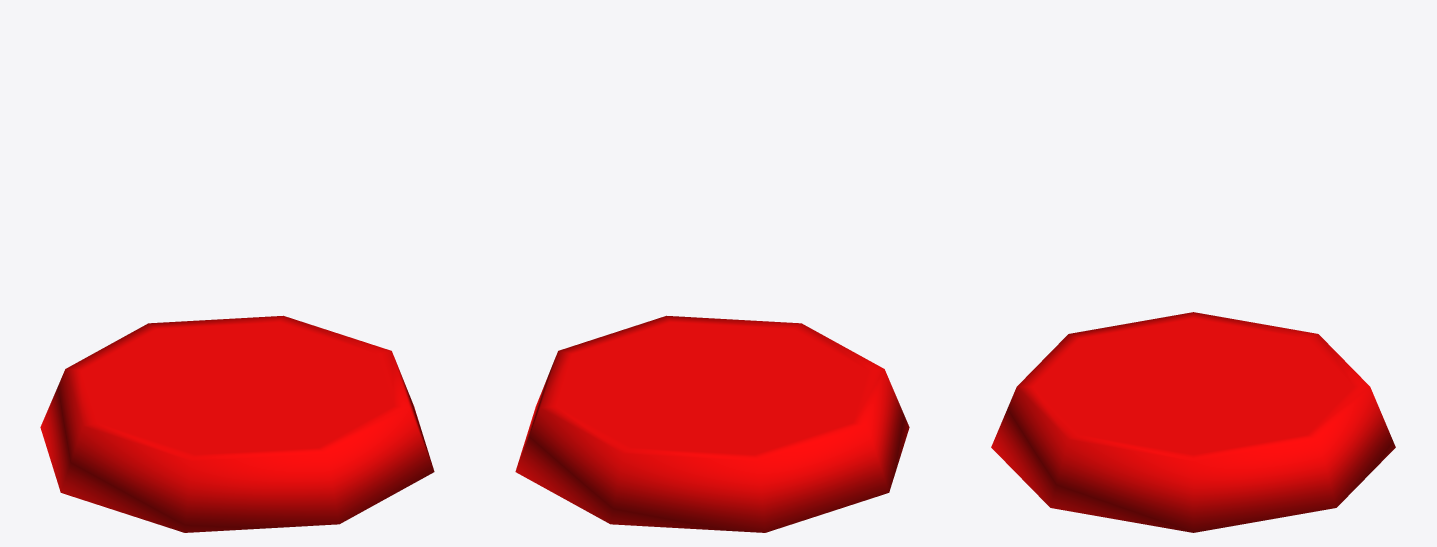
The model's file is snowglobe.fbx.
3 renders of one model, left to right at view 1: azimuth 30°, elevation 25°; view 2: azimuth 150°, elevation 25°; view 3: azimuth 270°, elevation 25°, orthographic.
Parts seen in each view (by area): view 1: Snowglobe; view 2: Snowglobe; view 3: Snowglobe.
Boxes of the visible parts, <box> form: Snowglobe: <box>40,315,434,532</box>; Snowglobe: <box>515,315,909,532</box>; Snowglobe: <box>991,312,1395,532</box>.
Bounding box in the file's own units: 180 × 178 × 180.
1 material, 1 textured.
